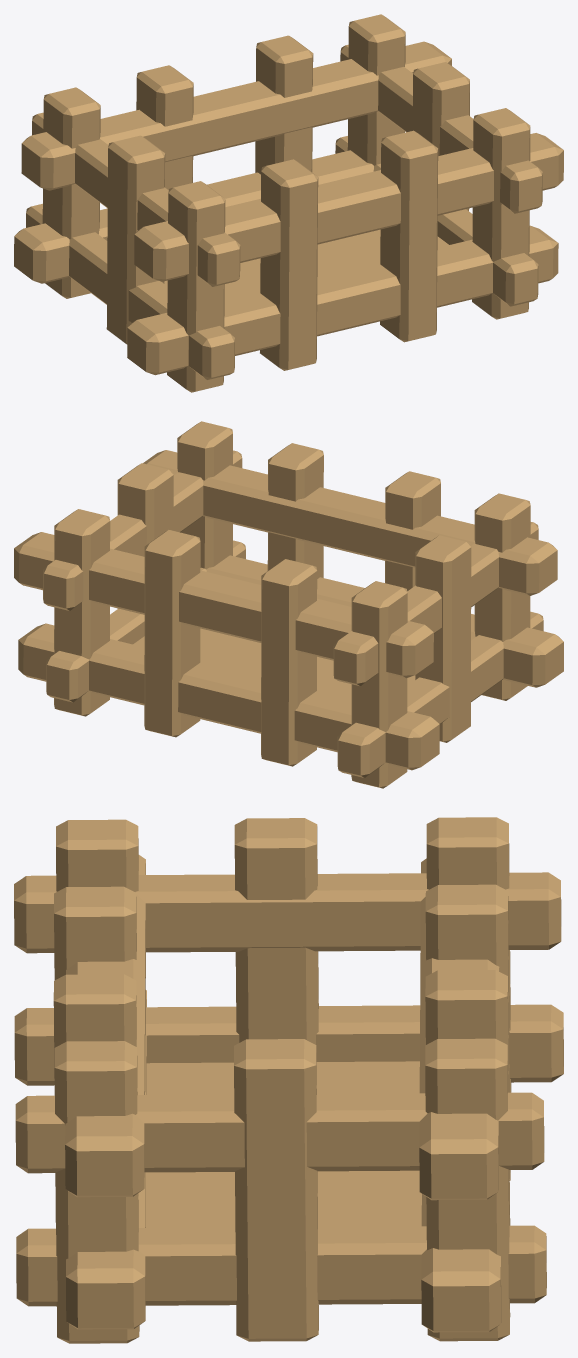
The model's file is kasa.fbx.
3 renders of one model, top to bottom at view 1: azimuth 30°, elevation 25°; view 2: azimuth 150°, elevation 25°; view 3: azimuth 270°, elevation 25°, orthographic. The views are drawn at different scales.
Visible parts, largest first — view 1: Grover_Case.002; view 2: Grover_Case.002; view 3: Grover_Case.002.
Boxes of the visible parts, x1,y1,x2,y2 form: Grover_Case.002: (14,14,563,392); Grover_Case.002: (14,421,563,788); Grover_Case.002: (14,817,563,1343).
Size of the model in its own units: 167 by 72.97 by 126.
